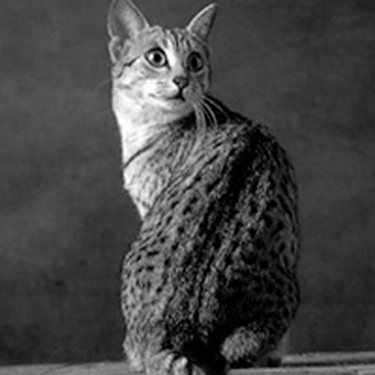cat: (97, 4, 289, 357)
